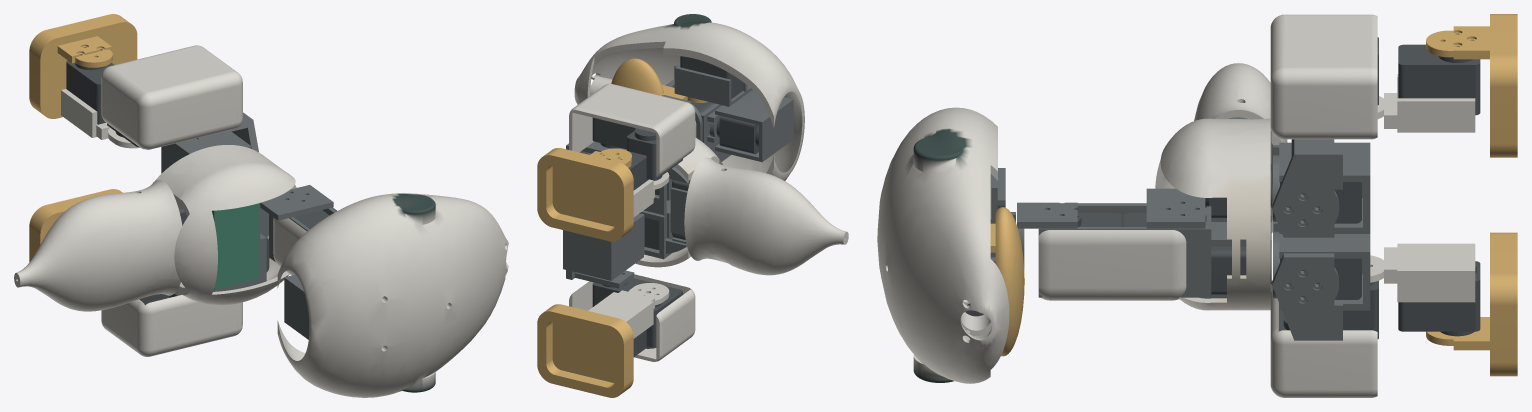
File: micro_x.glb
3 renders of one model, left to right at view 1: azimuth 30°, elevation 25°; view 2: azimuth 150°, elevation 25°; view 3: azimuth 270°, elevation 25°, orthographic. The views are drawn at different scales.
Parts seen in each view (by area): view 1: mesh_skull, mesh_tail_cover, mesh_left_upper_leg, mesh_torso_shell, mesh_left_foot, mesh_right_upper_leg, mesh_compute_board, mesh_chassis, mesh_left_lower_leg, mesh_servo_left_ankle, mesh_right_foot, mesh_head_frame (+3 smaller); view 2: mesh_tail_cover, mesh_skull, mesh_left_foot, mesh_right_foot, mesh_left_upper_leg, mesh_head_frame, mesh_right_yaw2roll, mesh_right_upper_leg, mesh_chassis, mesh_right_lower_leg, mesh_jaw_beak, mesh_torso_shell (+12 smaller); view 3: mesh_skull, mesh_left_upper_leg, mesh_torso_shell, mesh_neck_sleeve, mesh_right_upper_leg, mesh_left_foot, mesh_left_hip, mesh_right_lower_leg, mesh_right_hip, mesh_right_foot, mesh_servo_left_ankle, mesh_tail_cover (+14 smaller).
Part boxes in pixels (x1,y1,x2,y2): mesh_skull: [277, 193, 508, 397]; mesh_tail_cover: [14, 179, 182, 311]; mesh_left_upper_leg: [101, 45, 242, 149]; mesh_torso_shell: [155, 145, 296, 305]; mesh_left_foot: [29, 14, 137, 118]; mesh_right_upper_leg: [101, 295, 242, 356]; mesh_compute_board: [212, 203, 259, 290]; mesh_chassis: [177, 185, 333, 291]; mesh_left_lower_leg: [61, 89, 139, 148]; mesh_servo_left_ankle: [66, 60, 114, 124]; mesh_right_foot: [29, 189, 122, 261]; mesh_head_frame: [284, 274, 309, 339]; mesh_tail_cover: [684, 157, 848, 275]; mesh_skull: [574, 14, 804, 180]; mesh_left_foot: [537, 148, 633, 241]; mesh_right_foot: [537, 304, 633, 397]; mesh_left_upper_leg: [569, 83, 695, 176]; mesh_head_frame: [665, 64, 793, 162]; mesh_right_yaw2roll: [563, 213, 644, 280]; mesh_right_upper_leg: [569, 274, 695, 361]; mesh_chassis: [639, 167, 690, 259]; mesh_right_lower_leg: [588, 283, 669, 338]; mesh_jaw_beak: [611, 58, 707, 102]; mesh_torso_shell: [635, 137, 723, 267]; mesh_skull: [877, 107, 1009, 383]; mesh_left_upper_leg: [1270, 14, 1377, 139]; mesh_torso_shell: [1155, 118, 1270, 310]; mesh_neck_sleeve: [1039, 203, 1186, 300]; mesh_right_upper_leg: [1270, 280, 1377, 397]; mesh_left_foot: [1426, 14, 1517, 157]; mesh_left_hip: [1272, 139, 1342, 237]; mesh_right_lower_leg: [1370, 243, 1475, 302]; mesh_right_hip: [1272, 253, 1342, 340]; mesh_right_foot: [1426, 232, 1517, 376]; mesh_servo_left_ankle: [1398, 44, 1480, 115]; mesh_tail_cover: [1194, 63, 1287, 232].
Bounding box in the file's own units: 0.236 × 0.1508 × 0.2656.
